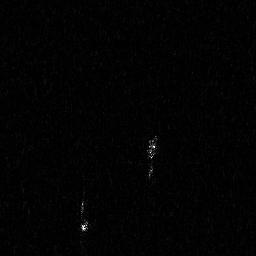ship: (146, 132, 159, 181), (80, 190, 91, 239)
